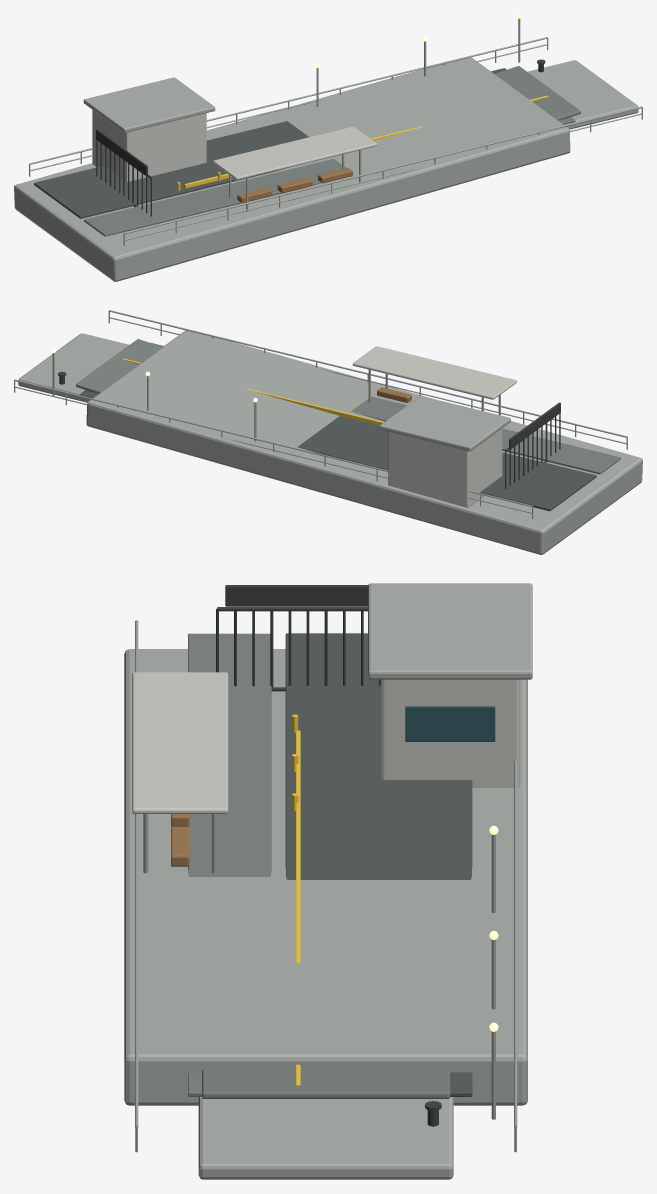
File: ferry-mianhuadi-pier-v13-lod2.glb
3 views of the same model, one above another, from view 1: azimuth 30°, elevation 25°; view 2: azimuth 150°, elevation 25°; view 3: azimuth 270°, elevation 25° (orthographic). The views are drawn at different scales.
Parts seen in each view (by area): view 1: Mianhuadi concrete embankment.001, Mianhuadi vehicle approach.001, Mianhuadi flat roof service booth.001, Mianhuadi pedestrian approach.001, Mianhuadi service booth flat roof.001, Mianhuadi waiting shelter roof, Mianhuadi floating apron.001, Mianhuadi sloped boarding ramp.001, Mianhuadi south embankment rail.002, Mianhuadi north embankment rail.002, Mianhuadi south embankment rail.003, Mianhuadi modest name board.001 (+2 smaller); view 2: Mianhuadi concrete embankment.001, Mianhuadi vehicle approach.001, Mianhuadi flat roof service booth.001, Mianhuadi service booth flat roof.001, Mianhuadi waiting shelter roof, Mianhuadi floating apron.001, Mianhuadi pedestrian approach.001, Mianhuadi sloped boarding ramp.001, Mianhuadi south embankment rail.002, Mianhuadi north embankment rail.002, Mianhuadi south embankment rail.003, Mianhuadi modest name board.001 (+2 smaller); view 3: Mianhuadi concrete embankment.001, Mianhuadi vehicle approach.001, Mianhuadi floating apron.001, Mianhuadi service booth flat roof.001, Mianhuadi pedestrian approach.001, Mianhuadi waiting shelter roof, Mianhuadi flat roof service booth.001, Mianhuadi sloped boarding ramp.001, Mianhuadi service booth window.001, Mianhuadi modest name board.001, Mianhuadi north embankment rail.002, Mianhuadi south embankment rail.002 (+1 smaller).
Boxes of the visible parts, left/top/right/bottom form: Mianhuadi concrete embankment.001: left=14, top=57, right=570, bottom=281; Mianhuadi vehicle approach.001: left=34, top=68, right=506, bottom=218; Mianhuadi flat roof service booth.001: left=92, top=110, right=206, bottom=181; Mianhuadi pedestrian approach.001: left=84, top=117, right=575, bottom=236; Mianhuadi service booth flat roof.001: left=83, top=77, right=215, bottom=132; Mianhuadi waiting shelter roof: left=213, top=126, right=377, bottom=179; Mianhuadi floating apron.001: left=527, top=60, right=638, bottom=129; Mianhuadi sloped boarding ramp.001: left=494, top=66, right=580, bottom=120; Mianhuadi south embankment rail.002: left=124, top=106, right=642, bottom=233; Mianhuadi north embankment rail.002: left=29, top=37, right=547, bottom=164; Mianhuadi south embankment rail.003: left=125, top=113, right=642, bottom=240; Mianhuadi modest name board.001: left=96, top=129, right=147, bottom=176; Mianhuadi concrete embankment.001: left=86, top=330, right=642, bottom=554; Mianhuadi vehicle approach.001: left=79, top=390, right=596, bottom=511; Mianhuadi flat roof service booth.001: left=388, top=428, right=502, bottom=507; Mianhuadi service booth flat roof.001: left=379, top=396, right=510, bottom=451; Mianhuadi waiting shelter roof: left=352, top=346, right=516, bottom=399; Mianhuadi floating apron.001: left=18, top=333, right=129, bottom=402; Mianhuadi pedestrian approach.001: left=150, top=342, right=620, bottom=474; Mianhuadi sloped boarding ramp.001: left=76, top=339, right=162, bottom=393; Mianhuadi south embankment rail.002: left=109, top=310, right=627, bottom=437; Mianhuadi north embankment rail.002: left=14, top=379, right=532, bottom=507; Mianhuadi south embankment rail.003: left=109, top=317, right=626, bottom=444; Mianhuadi modest name board.001: left=509, top=402, right=560, bottom=449; Mianhuadi concrete embankment.001: left=124, top=649, right=527, bottom=1105; Mianhuadi vehicle approach.001: left=285, top=633, right=472, bottom=1096; Mianhuadi floating apron.001: left=198, top=1096, right=453, bottom=1179; Mianhuadi service booth flat roof.001: left=368, top=583, right=532, bottom=679; Mianhuadi pedestrian approach.001: left=188, top=633, right=271, bottom=1096; Mianhuadi waiting shelter roof: left=132, top=672, right=228, bottom=813; Mianhuadi flat roof service booth.001: left=380, top=679, right=520, bottom=787; Mianhuadi sloped boarding ramp.001: left=202, top=1068, right=450, bottom=1098; Mianhuadi service booth window.001: left=405, top=706, right=495, bottom=741; Mianhuadi modest name board.001: left=225, top=585, right=368, bottom=606; Mianhuadi north embankment rail.002: left=514, top=760, right=517, bottom=1127; Mianhuadi south embankment rail.002: left=135, top=620, right=138, bottom=1127.
Size of the model in its own units: 40.47 by 6.57 by 13.15.
